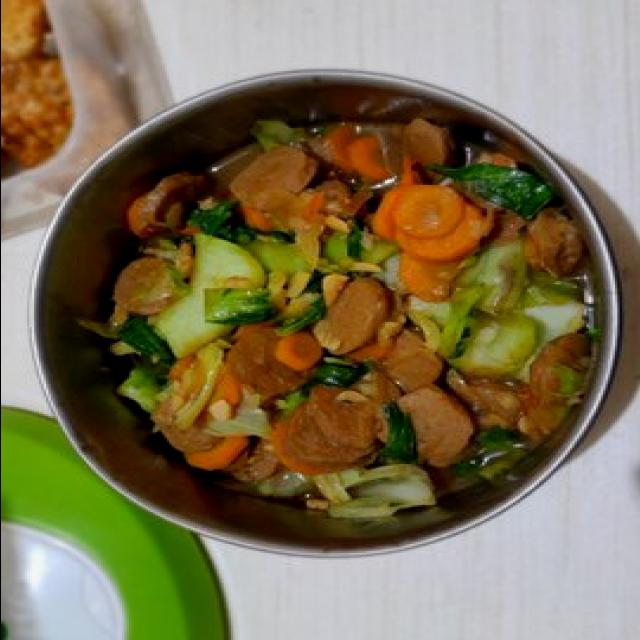capcay: (81, 100, 612, 519)
